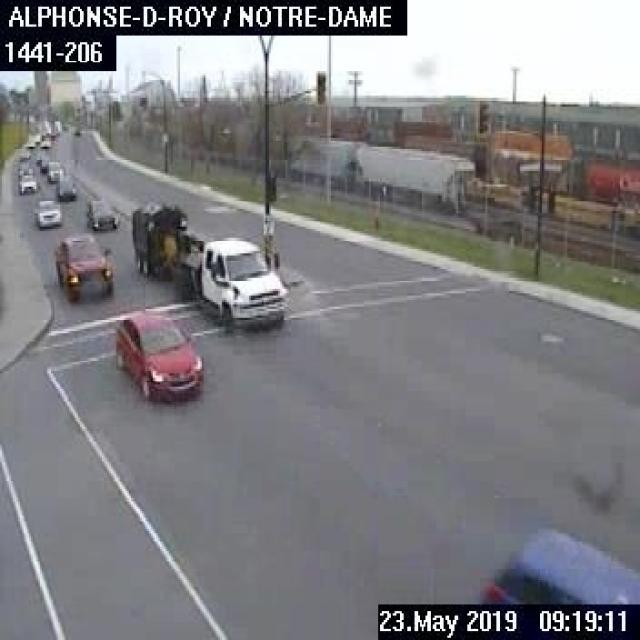vehicle: (129, 196, 289, 326), (476, 522, 638, 602), (112, 307, 204, 402), (51, 233, 112, 295), (84, 193, 123, 232), (32, 190, 64, 230), (54, 176, 74, 202), (44, 158, 62, 182), (18, 170, 36, 193)
